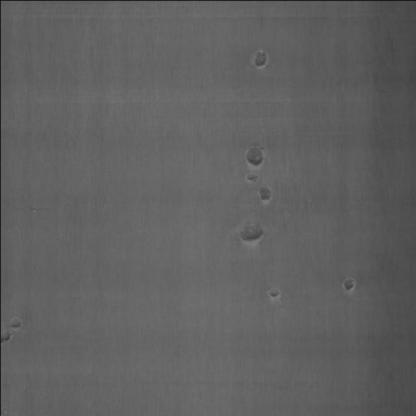rolled_pit: (249, 26, 276, 90), (237, 205, 268, 259), (238, 135, 272, 182), (332, 264, 362, 303), (260, 272, 285, 314), (250, 186, 273, 222)
